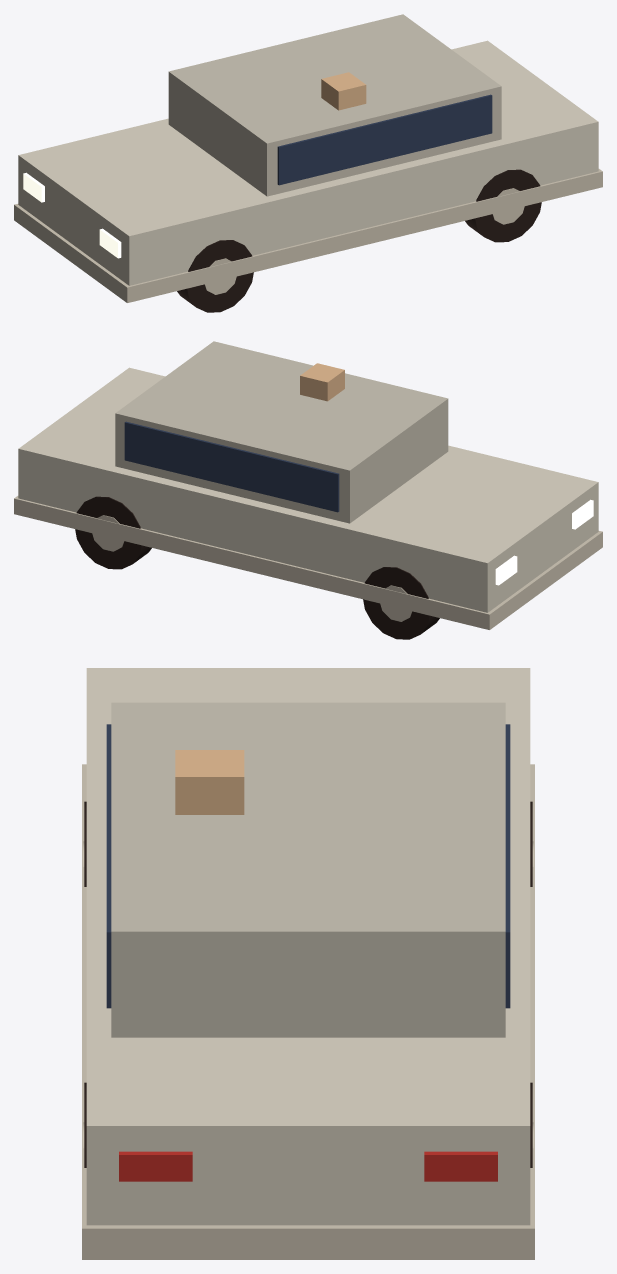
The model's file is traffic_5.glb.
The picture shows the model from 3 angles, top to bottom: view 1: azimuth 30°, elevation 25°; view 2: azimuth 150°, elevation 25°; view 3: azimuth 270°, elevation 25°; orthographic projection. The views are drawn at different scales.
Visible parts, largest first — view 1: Box1, Box2, Box4, Box3, Part2, Part4, Box10, Box7, Box5; view 2: Box1, Box2, Box4, Box3, Part1, Part3, Box10, Box5, Box7; view 3: Box2, Box1, Box4, Box10, Box3, Box6, Box8.
Part boxes in pixels (<box>): Box1: <box>18,40,598,285</box>; Box2: <box>168,14,501,196</box>; Box4: <box>14,169,602,302</box>; Box3: <box>277,94,492,185</box>; Part2: <box>465,169,541,242</box>; Part4: <box>177,240,253,312</box>; Box10: <box>321,72,366,110</box>; Box7: <box>99,228,121,258</box>; Box5: <box>23,172,44,202</box>; Box1: <box>18,367,598,612</box>; Box2: <box>115,341,448,523</box>; Box4: <box>14,496,602,629</box>; Box3: <box>124,421,339,512</box>; Part1: <box>75,496,151,569</box>; Part3: <box>363,567,439,639</box>; Box10: <box>300,363,344,401</box>; Box5: <box>495,555,517,585</box>; Box7: <box>572,499,593,529</box>; Box2: <box>111,702,505,1037</box>; Box1: <box>86,668,530,1225</box>; Box4: <box>82,764,534,1259</box>; Box10: <box>175,750,244,814</box>; Box3: <box>106,724,510,1008</box>; Box6: <box>424,1151,497,1181</box>; Box8: <box>119,1151,192,1181</box>.
Bounding box in the file's own units: 4.46 × 1.52 × 1.84.
